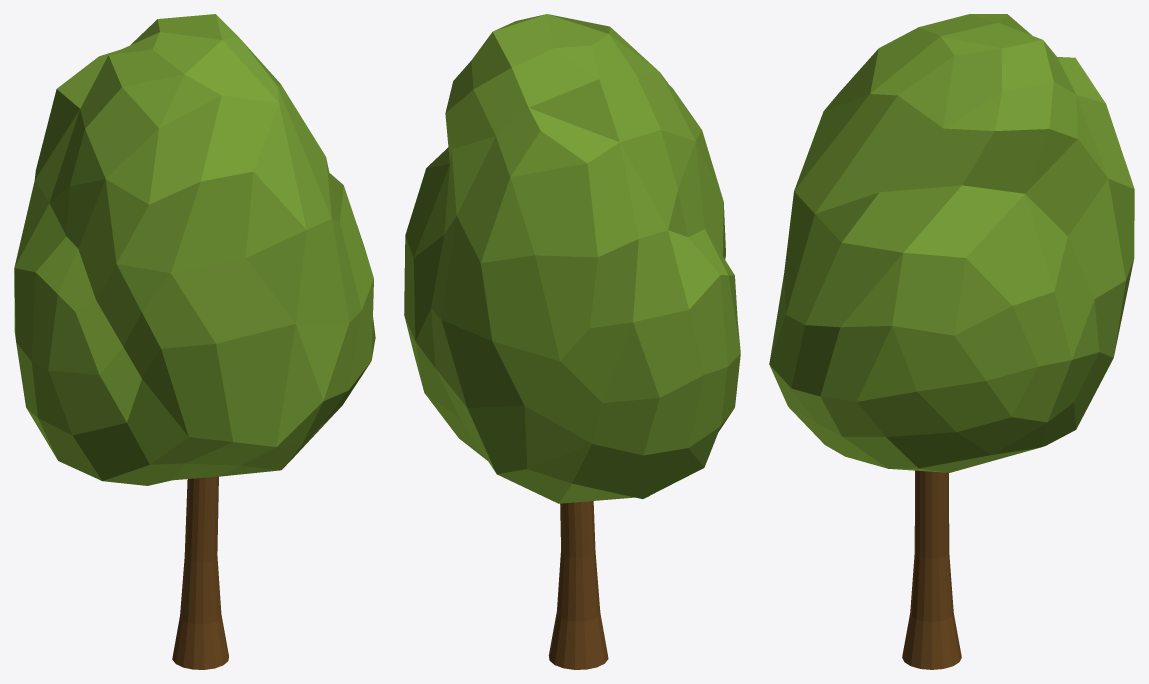
Rendered from tree_003.glb.
3 renders of one model, left to right at view 1: azimuth 30°, elevation 25°; view 2: azimuth 150°, elevation 25°; view 3: azimuth 270°, elevation 25°, orthographic. The views are drawn at different scales.
Parts seen in each view (by area): view 1: tree.003; view 2: tree.003; view 3: tree.003.
Part boxes in pixels (x1,y1,x2,y2): tree.003: [14, 14, 375, 669]; tree.003: [404, 14, 740, 669]; tree.003: [769, 14, 1134, 669].
Size of the model in its own units: 9.22 by 17.84 by 9.32.
Materials: 1 (1 with a texture image).
